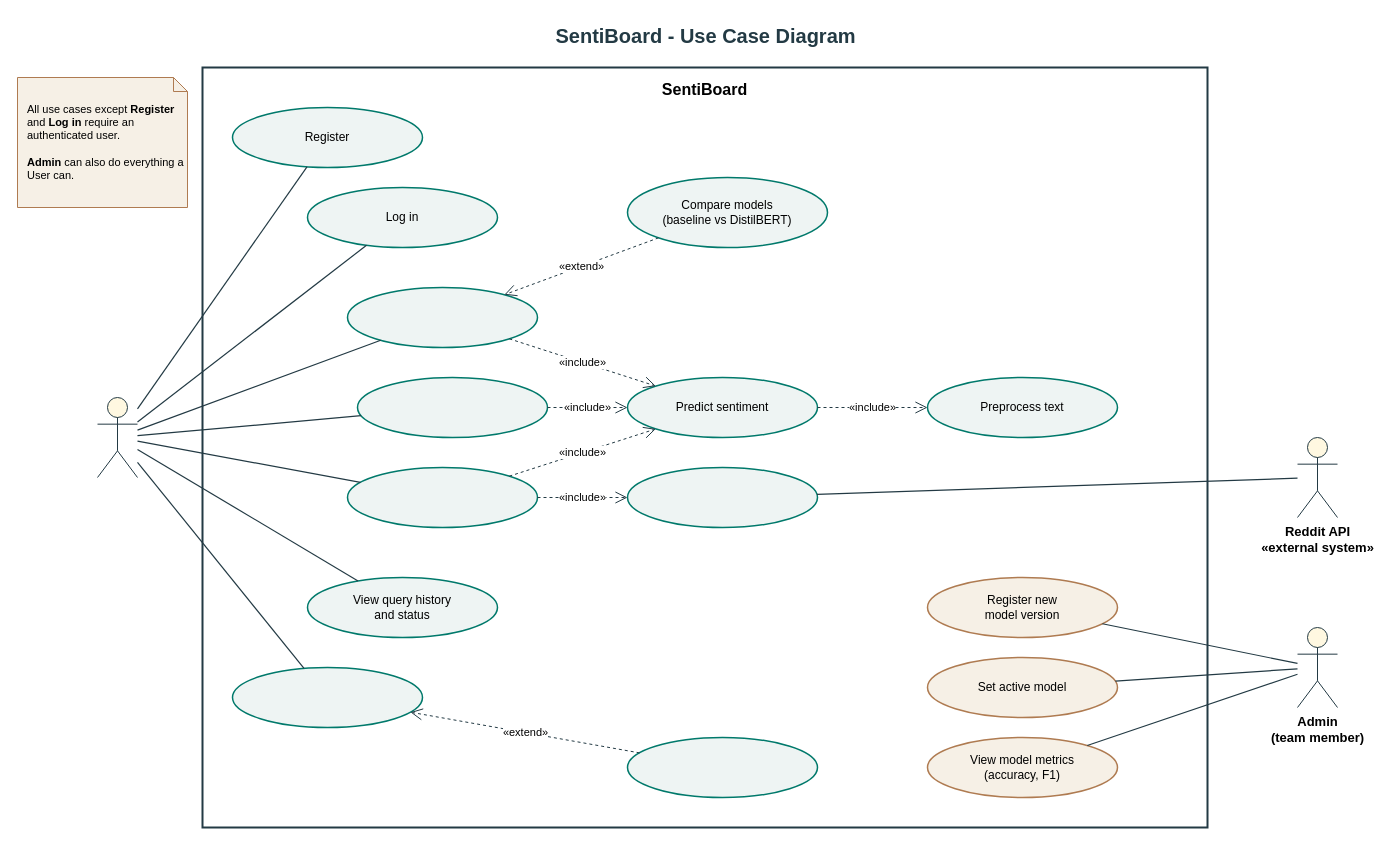
Image size: 1391x845. Some labels were removed from this diagram. Each missing label, with the box of its shape:
Analyze single text: (346, 286, 538, 348)
Export results to CSV: (626, 736, 818, 798)
Fetch posts from Reddit: (626, 466, 818, 528)
Search posts by keyword: (346, 466, 538, 528)
Upload CSV file: (356, 376, 548, 438)
User: (96, 396, 138, 478)
View dashboard: (231, 666, 423, 728)
